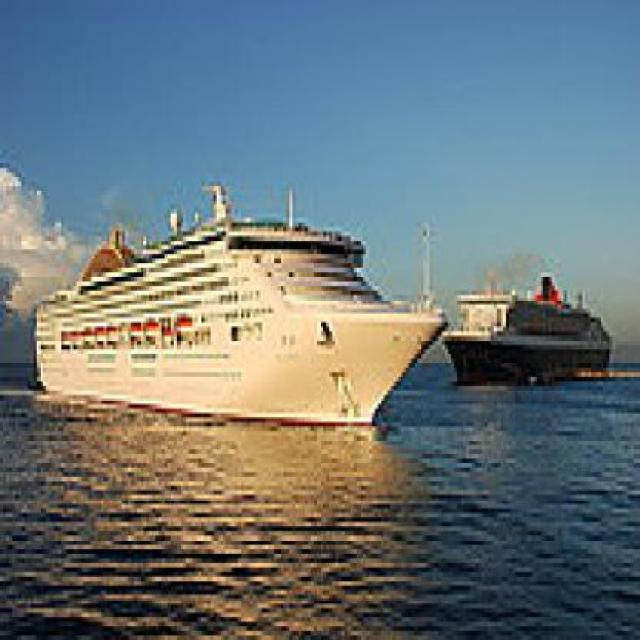cruise: (22, 169, 456, 446), (437, 255, 626, 406)
